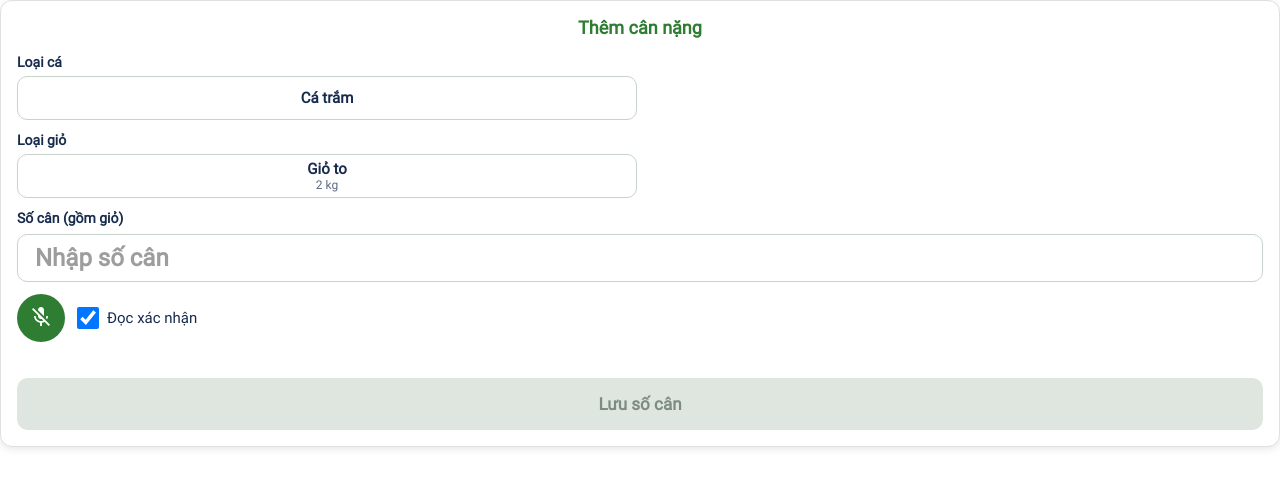
Test case: Lưới chọn cá/giỏ › xem trước số cân thực theo giỏ đang chọn
Type "25,5" into the field with id "fishWeight". click: (640, 258)
box: [19,236,1262,280]
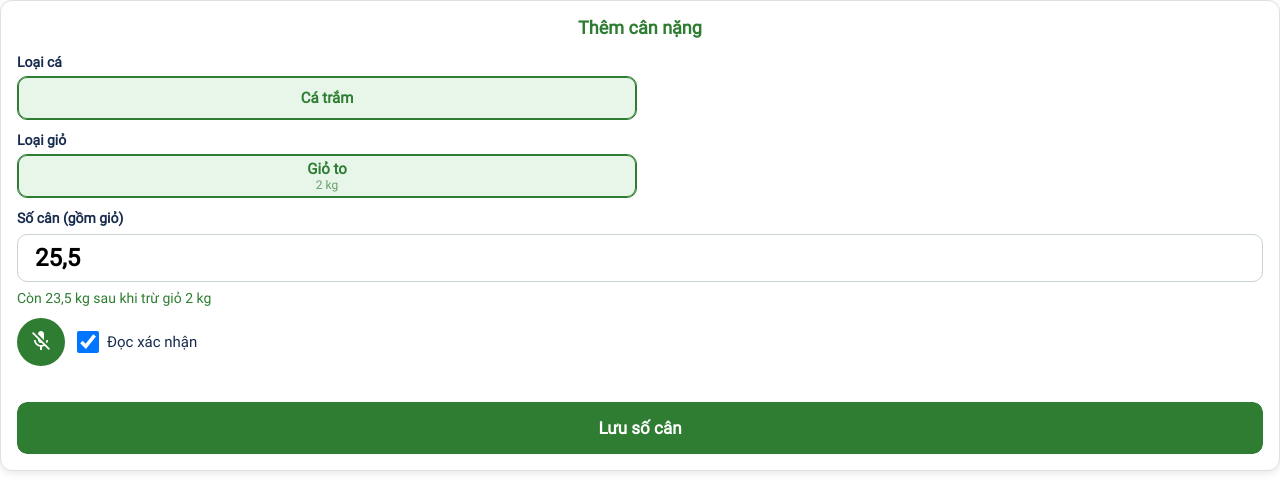
Check: the text with class "net-preview" reads "Còn 23,5 kg sau khi trừ giỏ 2 kg", box [17,290,211,306]
Replace the text in the field with id "fishWeight" with "1,5". click: (640, 258)
box: [19,236,1262,280]
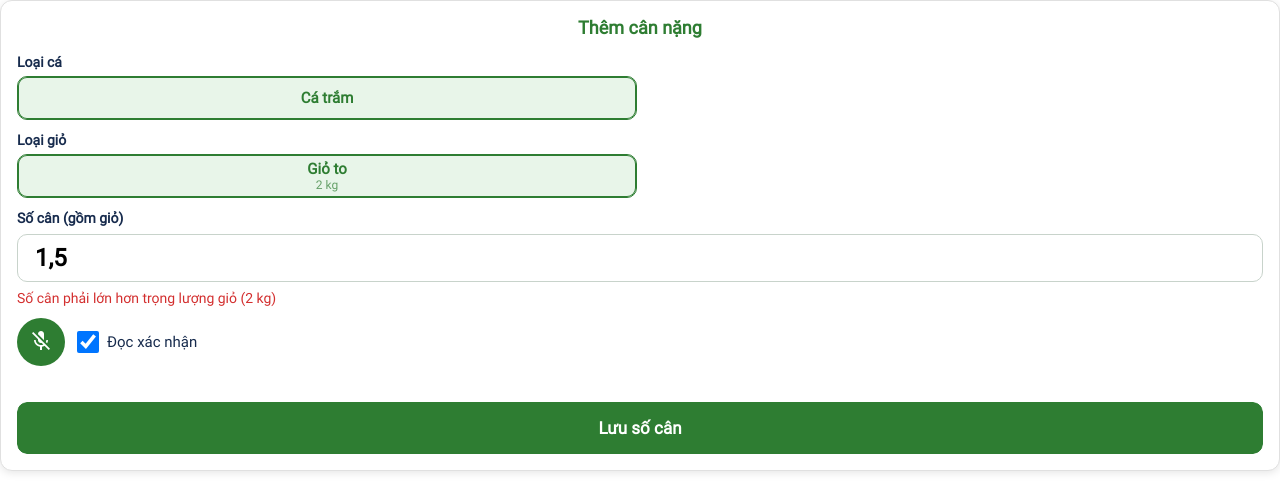
Check: the text with class "net-preview" reads "Số cân phải lớn hơn trọng lượng giỏ (2 kg)", box [17,290,276,306]
